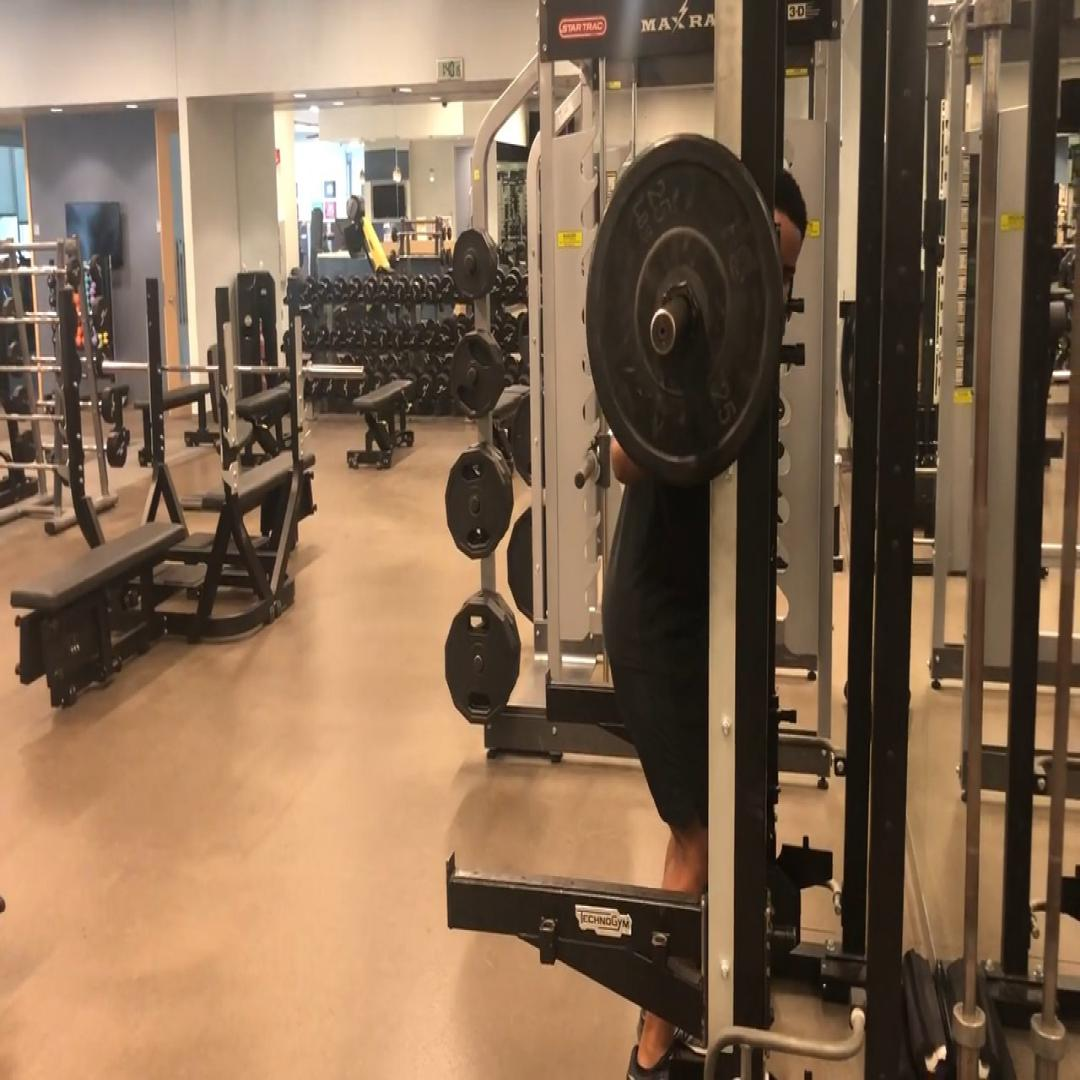Bar: (650, 308, 676, 354)
Barbell: (586, 133, 783, 484)
